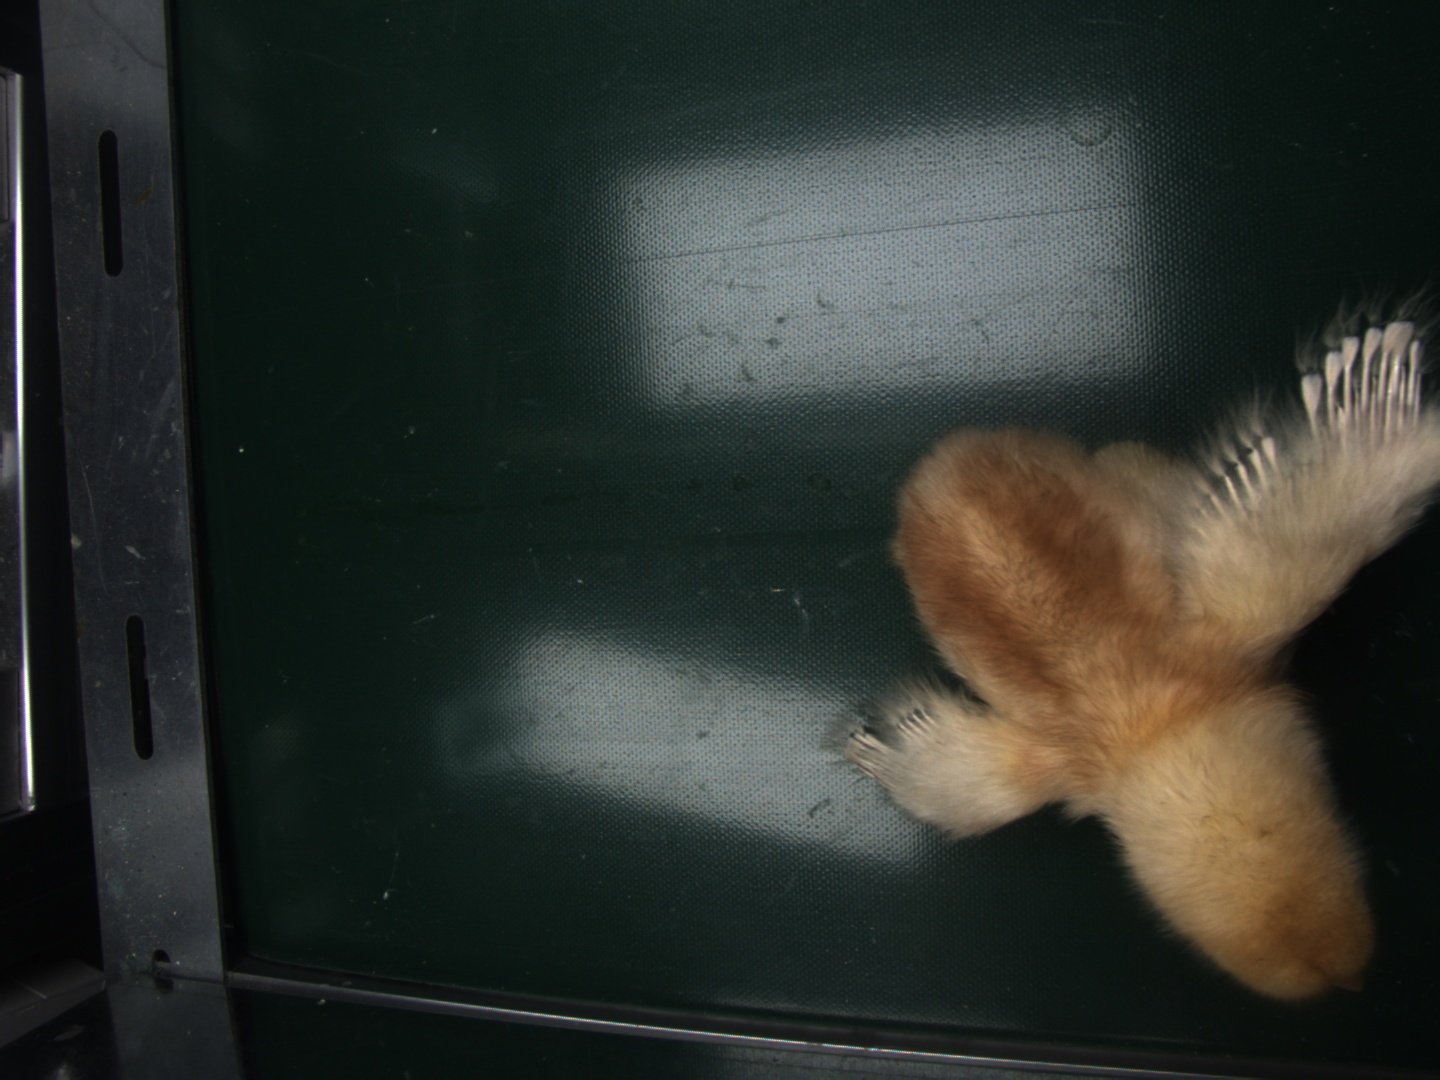female: (1314, 319, 1429, 430)
